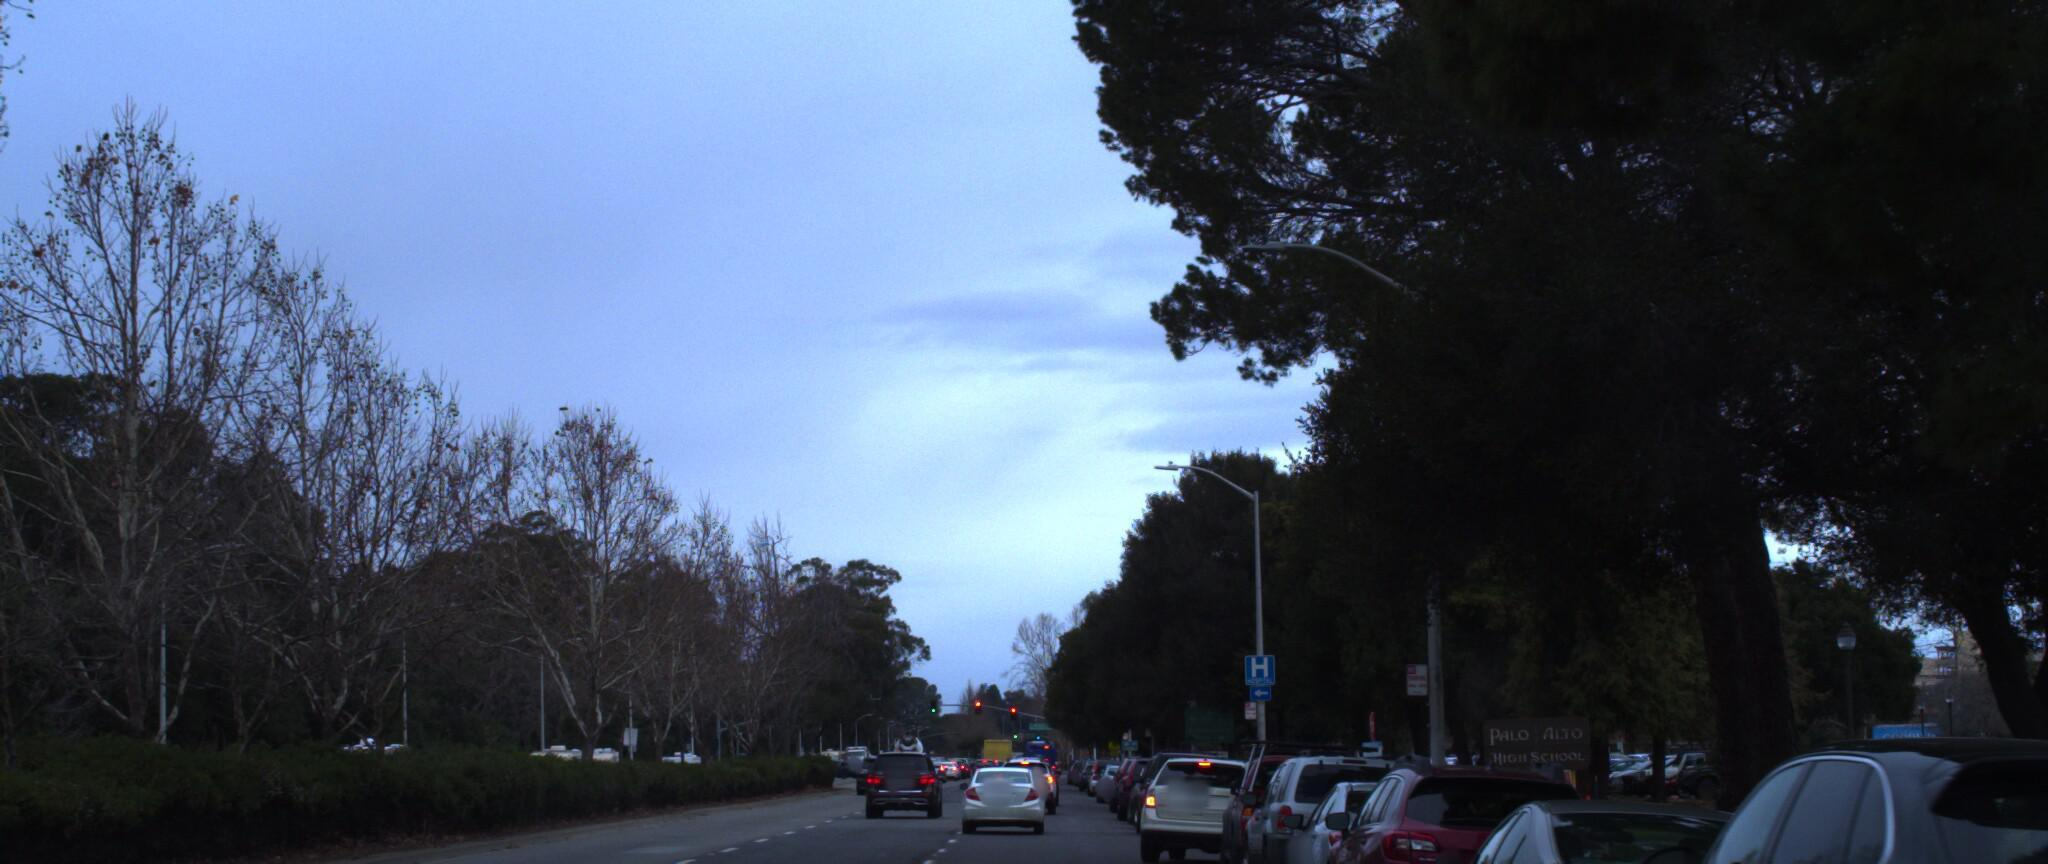car: (1570, 690, 2048, 864), (1305, 730, 1634, 864), (1411, 764, 1849, 864), (1228, 727, 1434, 864), (1204, 717, 1387, 864), (1270, 760, 1505, 864), (1125, 733, 1290, 850), (950, 749, 1040, 824), (869, 732, 947, 808)
